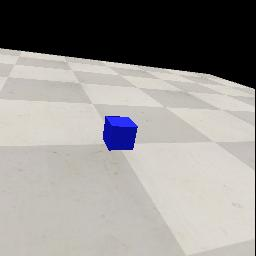box: (103, 116, 138, 151)
